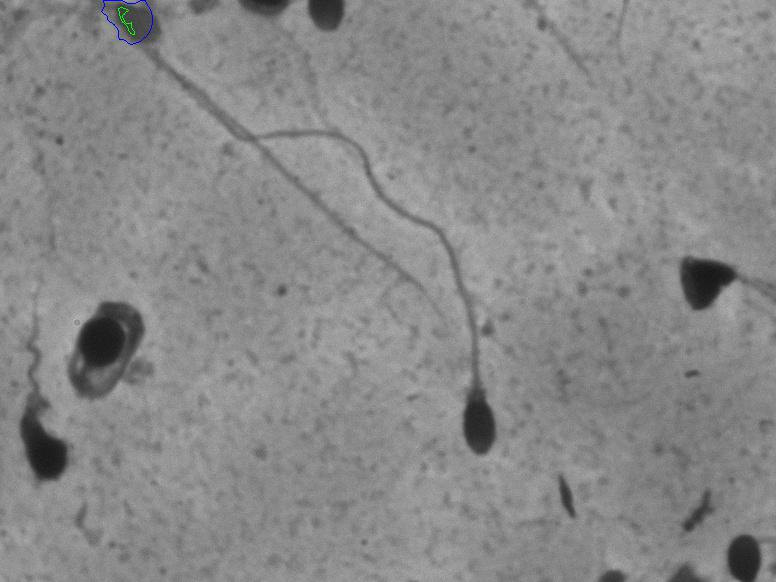Normal: (123, 50, 502, 469)
